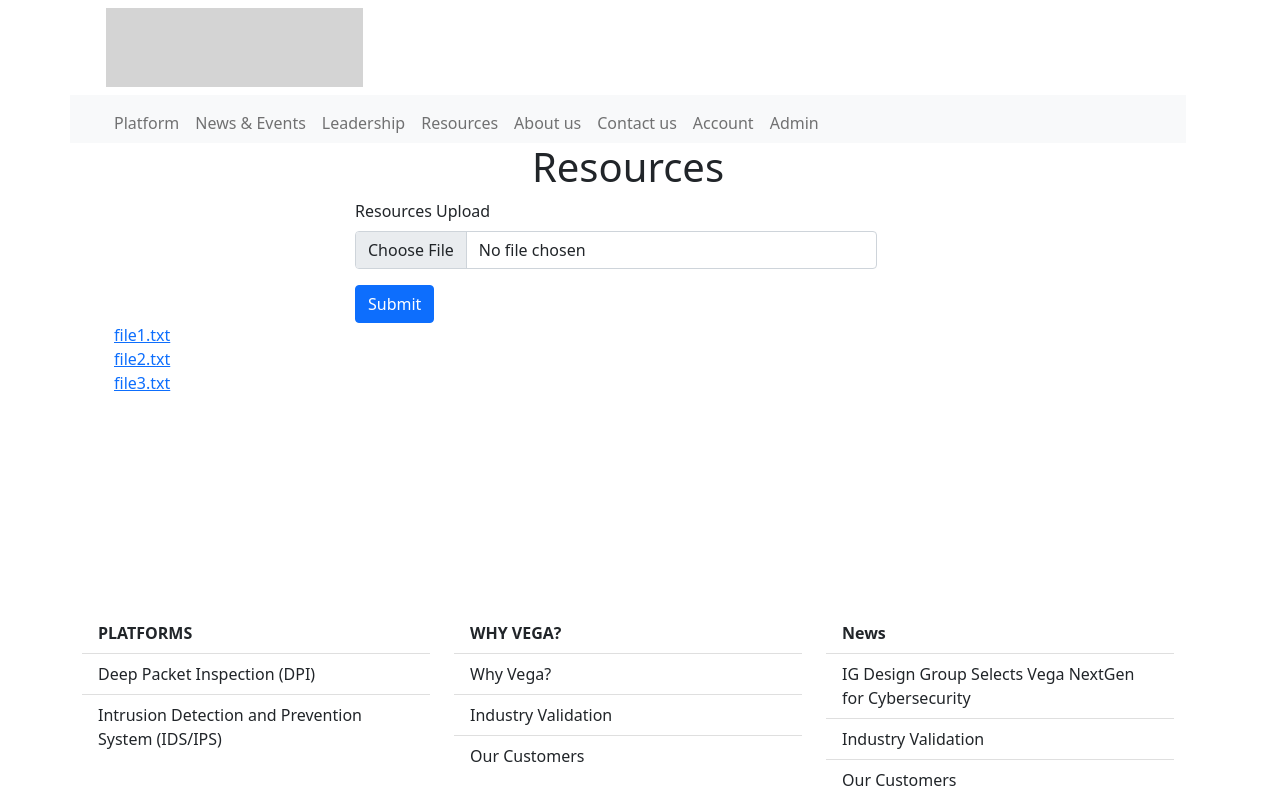
Test: Resources › admin › file fetch › should display error message when file fetch fails
Click the link "file1.txt": (142, 335) [114,324,170,346]
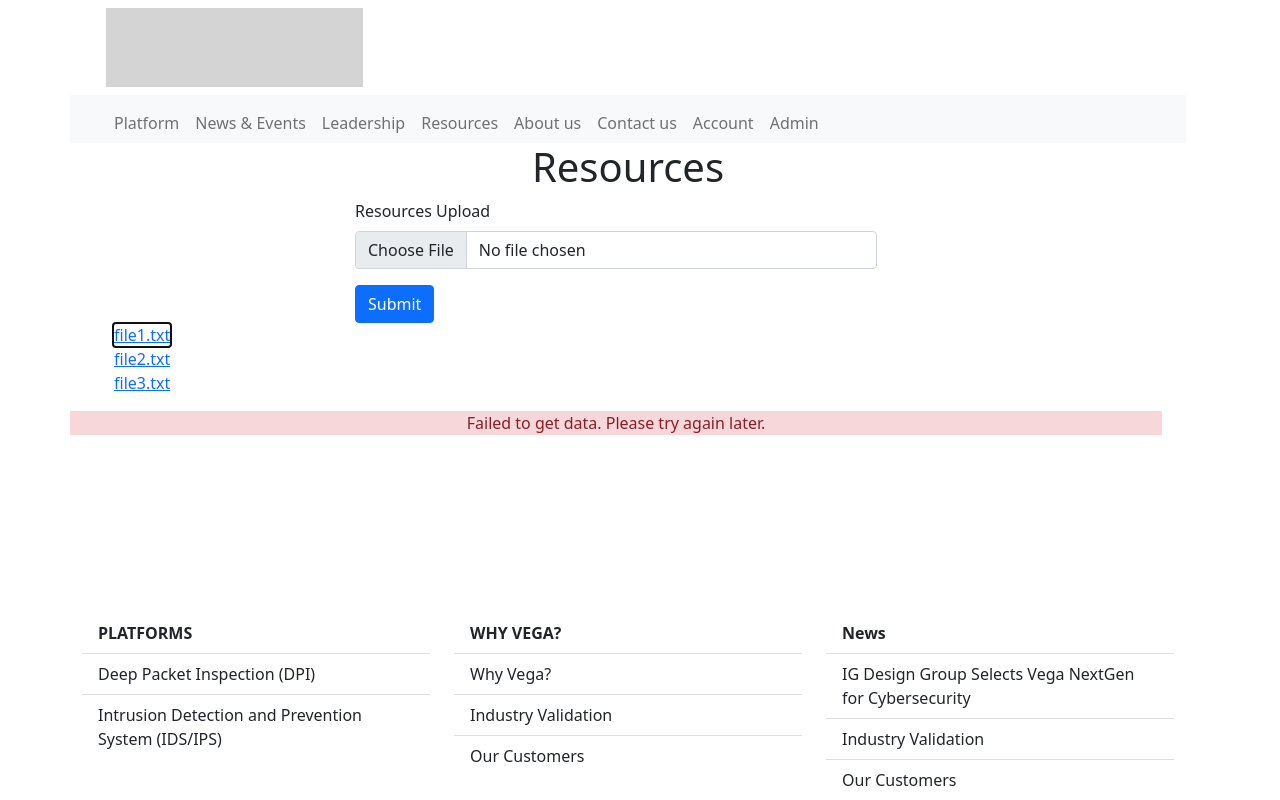
Expected: the text "Failed to get data. Please try again later." is shown, [70,411,1162,435]
